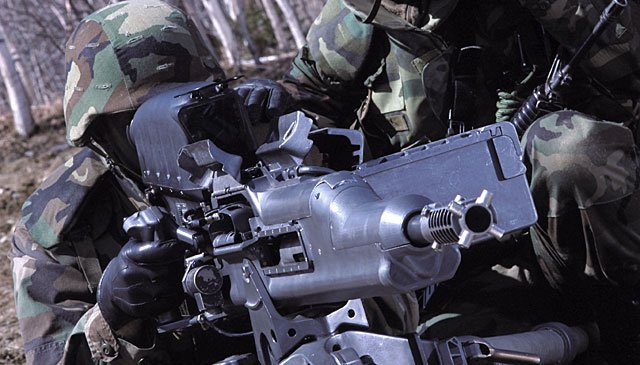rifle: (177, 122, 547, 354)
rifle in hand: (98, 140, 598, 353)
